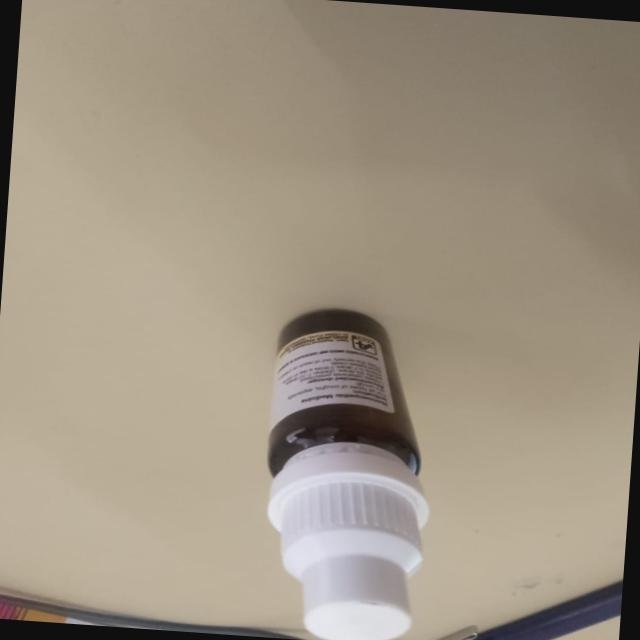medicine: (186, 290, 487, 640)
